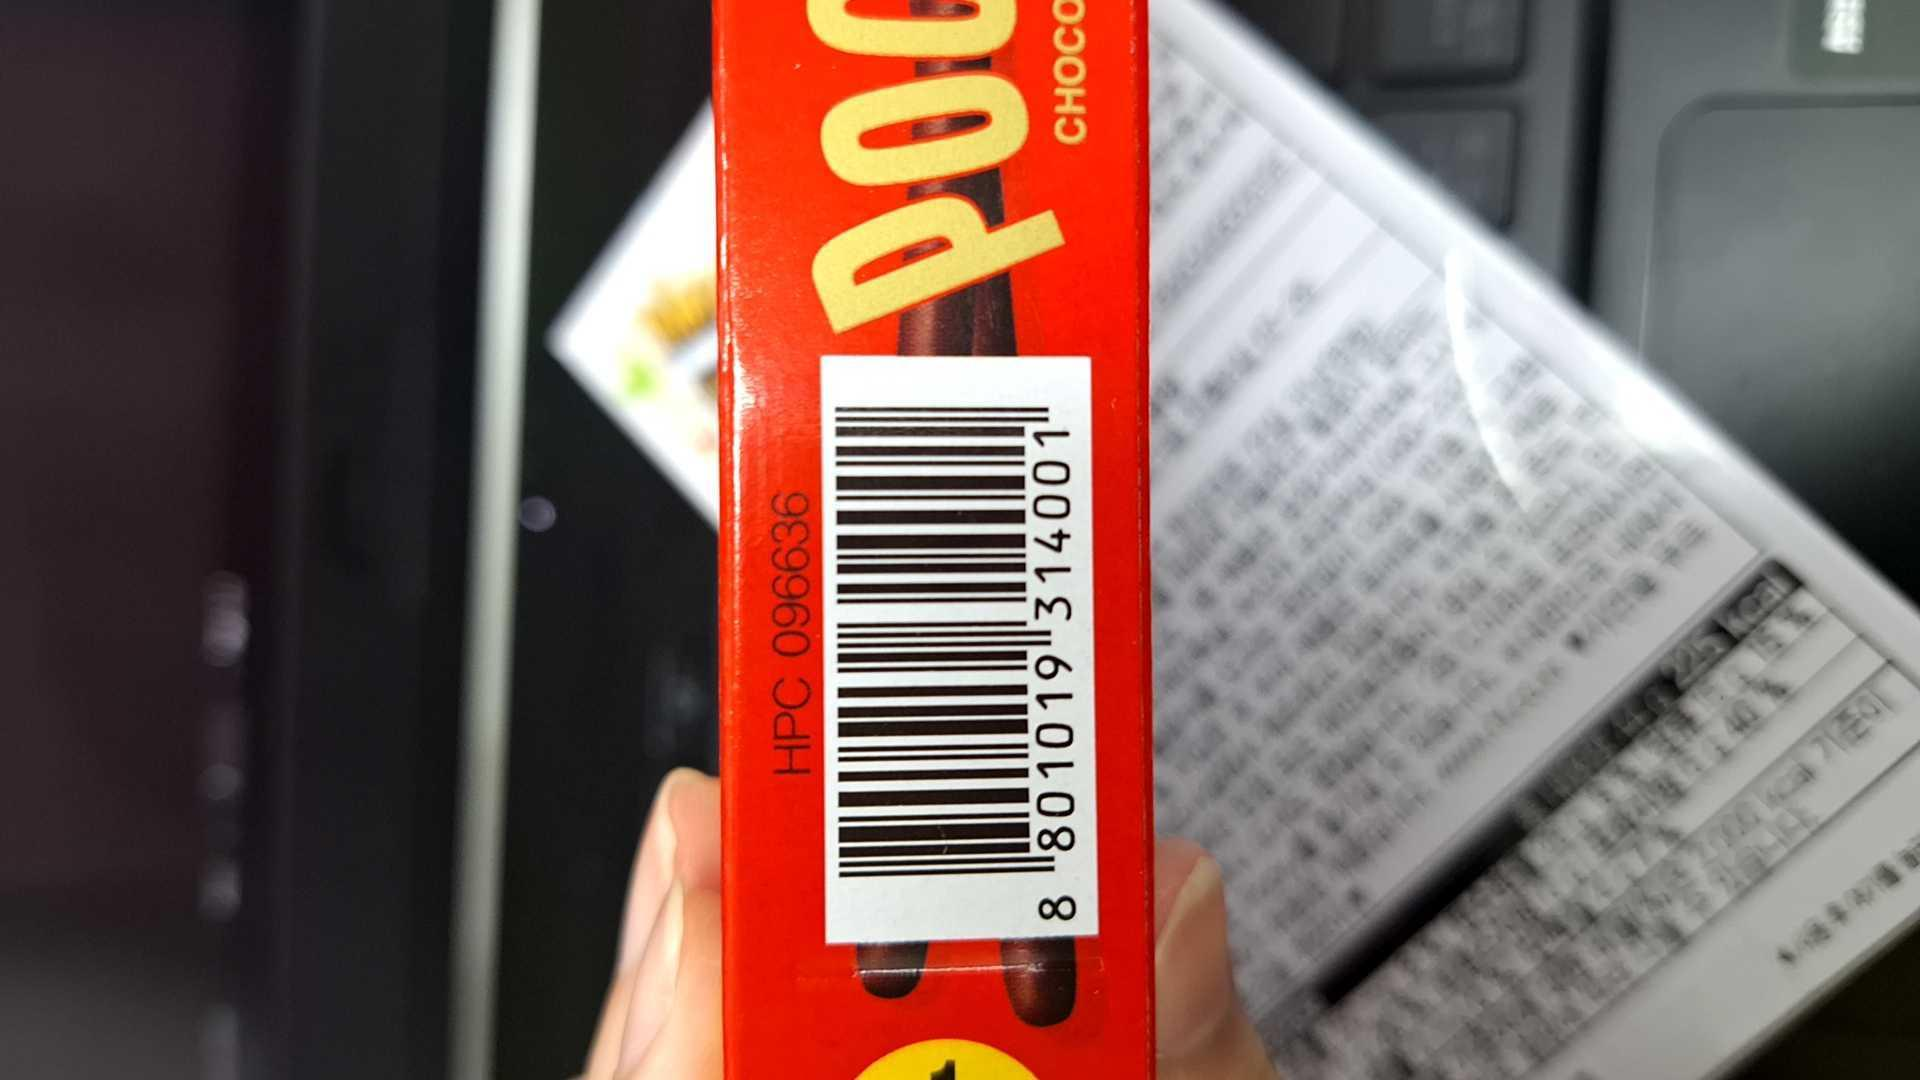redpocky-1800-2025-7-23: (822, 360, 1091, 923)
